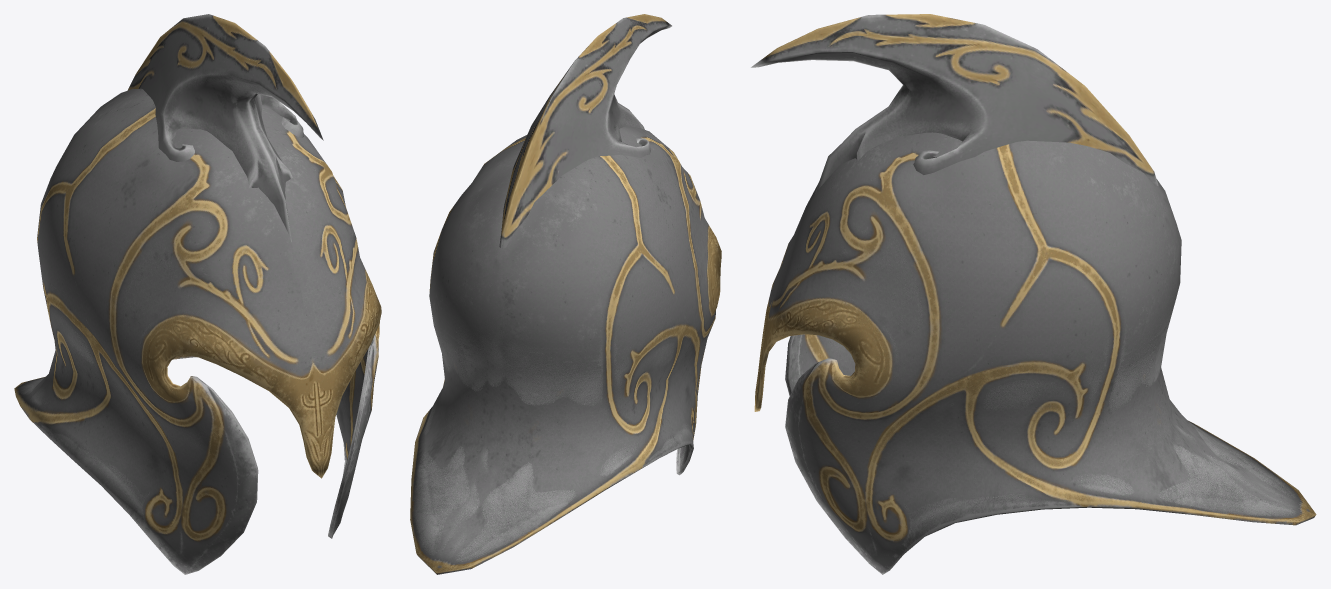
Rendered from rivendell_helmet_infantry_tier2_silvergold.fbx.
The picture shows the model from 3 angles, left to right: view 1: azimuth 30°, elevation 25°; view 2: azimuth 150°, elevation 25°; view 3: azimuth 270°, elevation 25°; orthographic projection. The views are drawn at different scales.
Parts seen in each view (by area): view 1: rivendell_helmet_infantry_tier2_silvergold.1, rivendell_helmet_infantry_tier2_silvergold.0; view 2: rivendell_helmet_infantry_tier2_silvergold.1, rivendell_helmet_infantry_tier2_silvergold.0; view 3: rivendell_helmet_infantry_tier2_silvergold.1, rivendell_helmet_infantry_tier2_silvergold.0.
Part boxes in pixels (box(x1,y1,x2,y2)): rivendell_helmet_infantry_tier2_silvergold.1: box(14, 88, 381, 574); rivendell_helmet_infantry_tier2_silvergold.0: box(127, 14, 323, 242); rivendell_helmet_infantry_tier2_silvergold.1: box(410, 125, 721, 574); rivendell_helmet_infantry_tier2_silvergold.0: box(499, 14, 671, 248); rivendell_helmet_infantry_tier2_silvergold.1: box(754, 132, 1316, 574); rivendell_helmet_infantry_tier2_silvergold.0: box(751, 14, 1158, 193).
Bounding box in the file's own units: 0.2002 × 0.3681 × 0.3765.
2 materials, 2 textured.
